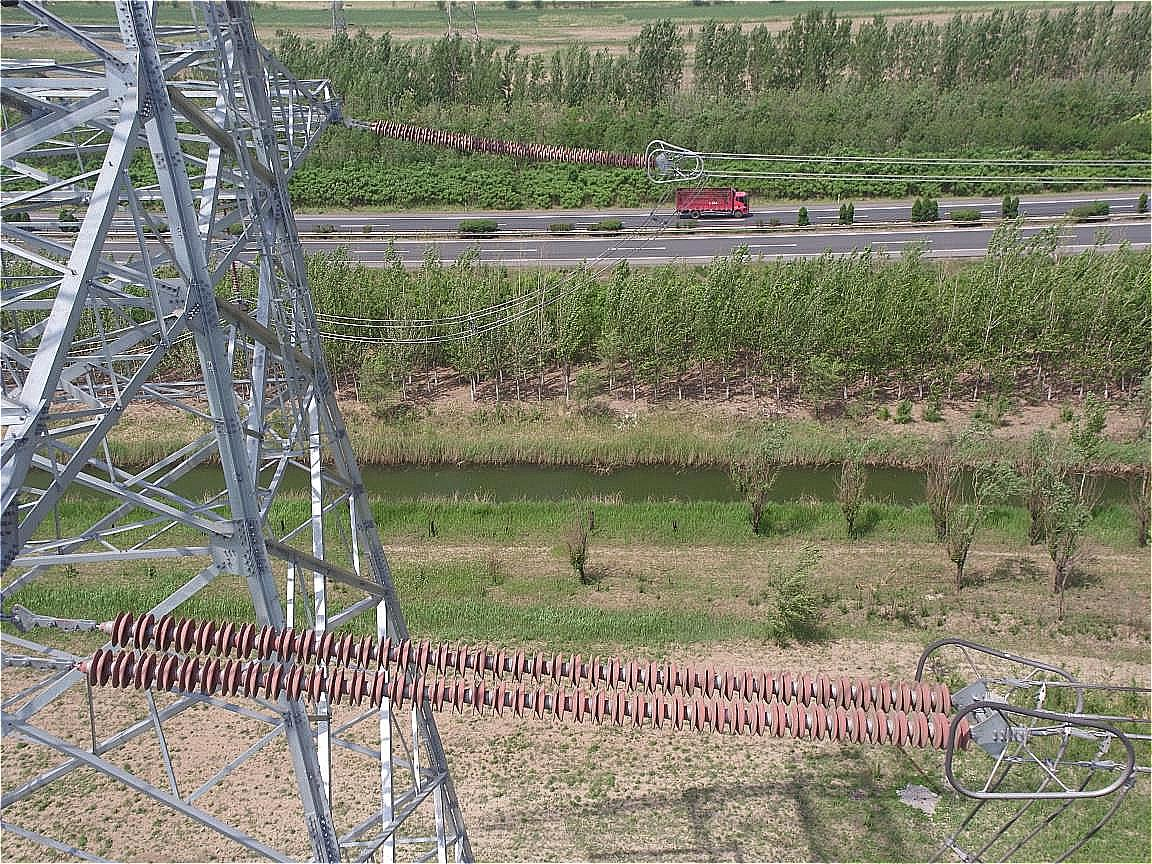insultor2: (64, 590, 983, 762), (372, 97, 664, 181)
